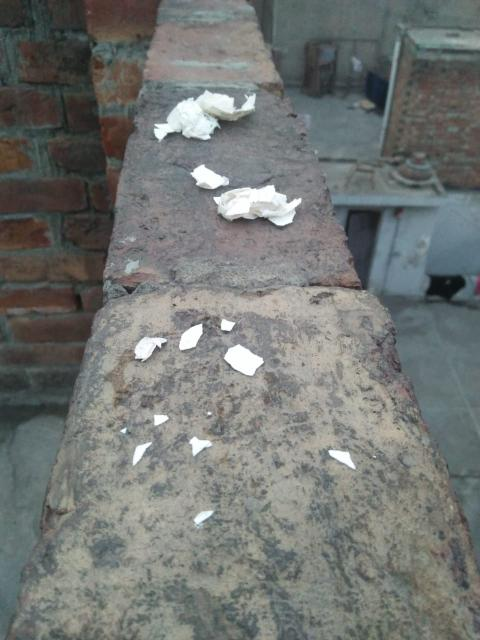Roto: (212, 183, 302, 227), (152, 99, 222, 139), (194, 88, 256, 121), (190, 163, 230, 190)
